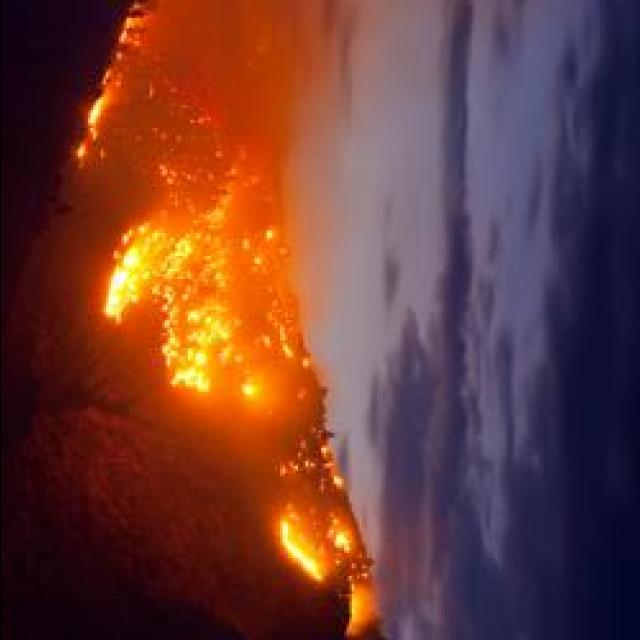fire: (155, 272, 221, 384), (99, 225, 162, 320), (274, 498, 324, 596), (345, 582, 381, 634), (115, 4, 146, 56), (83, 92, 115, 140)
smoke: (141, 1, 283, 63), (190, 193, 264, 288), (357, 554, 392, 609)
